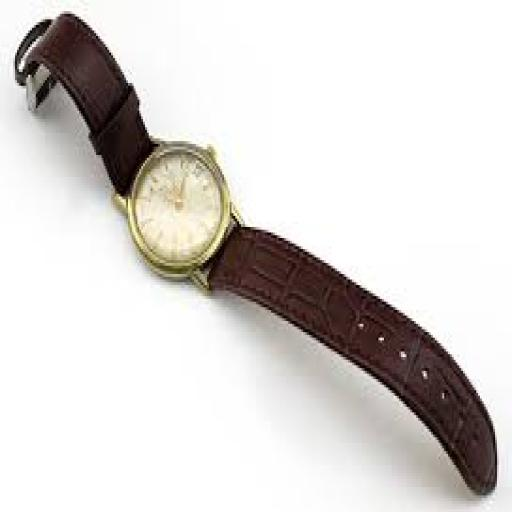KolSaati: (26, 12, 472, 482)
